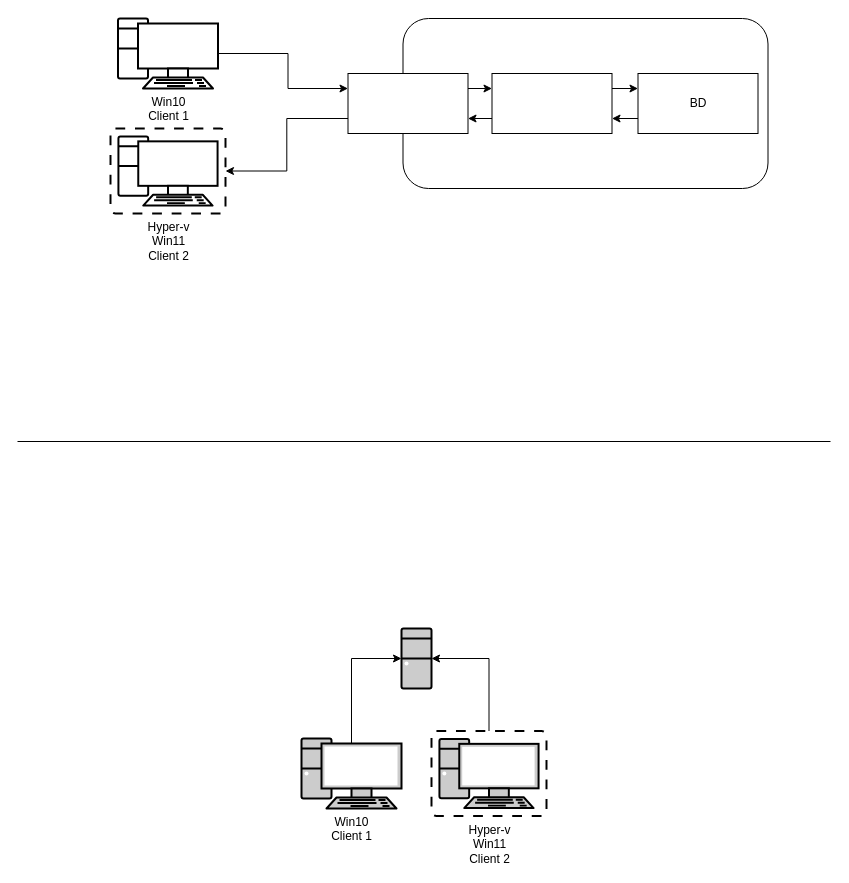
Some shapes in this 849 by 883 pixel diagram are drawn without their labels. Here are the shapes that lost their labels. From the top down, the box of each, then its label:
(347, 72, 468, 134): gRPC
(491, 72, 612, 134): BL
(400, 627, 432, 689): Hyper-v Ubunte-srv Dicker-srv
